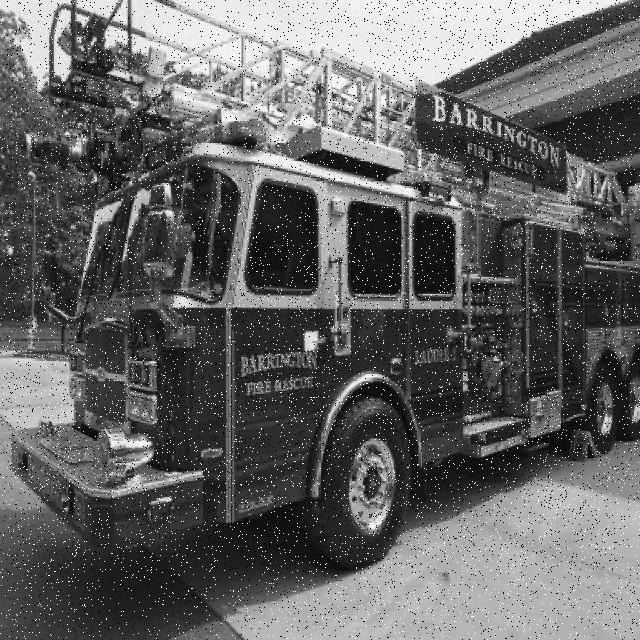Fire Truck: (9, 0, 640, 571)
